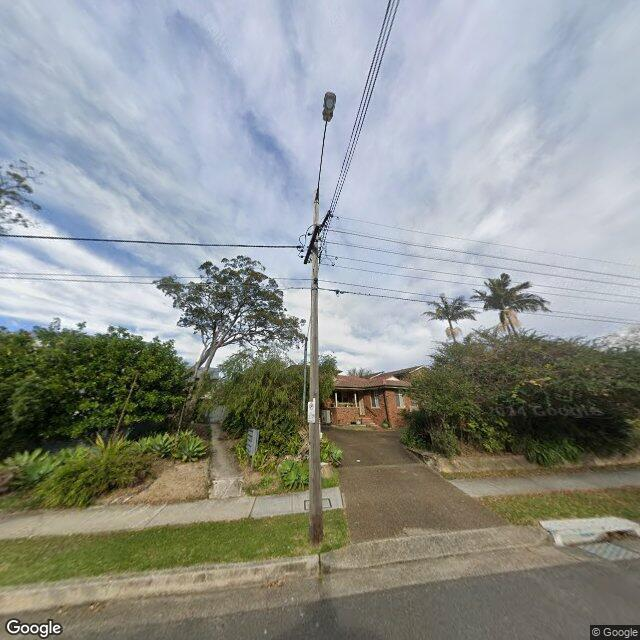crossarm: (302, 210, 333, 264)
streetlight: (314, 92, 338, 203)
timber-pole: (309, 201, 323, 545)
